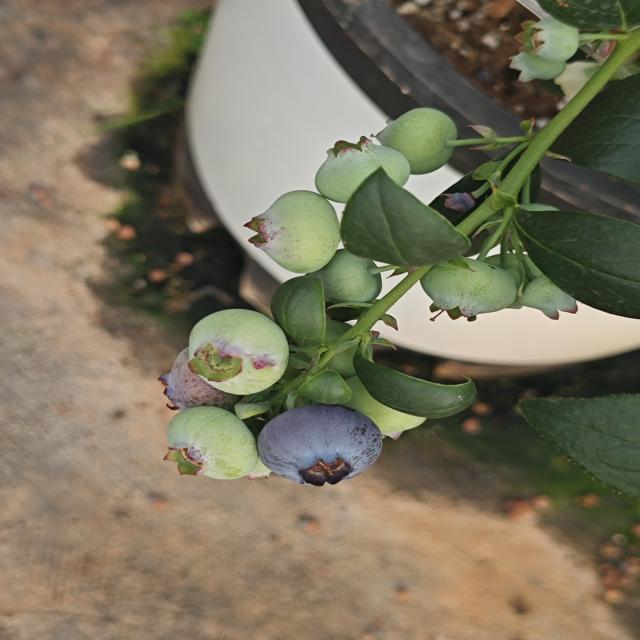ripe: (255, 402, 386, 488)
